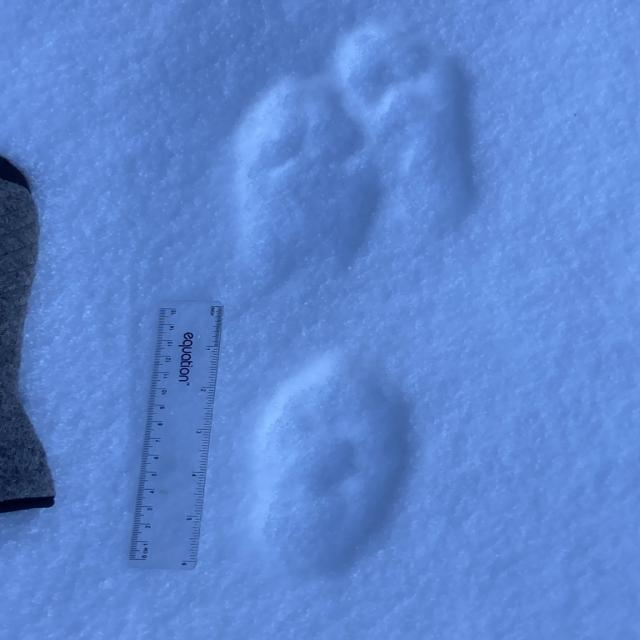mustelid: (257, 356, 421, 569), (351, 29, 485, 198), (242, 92, 375, 245)
